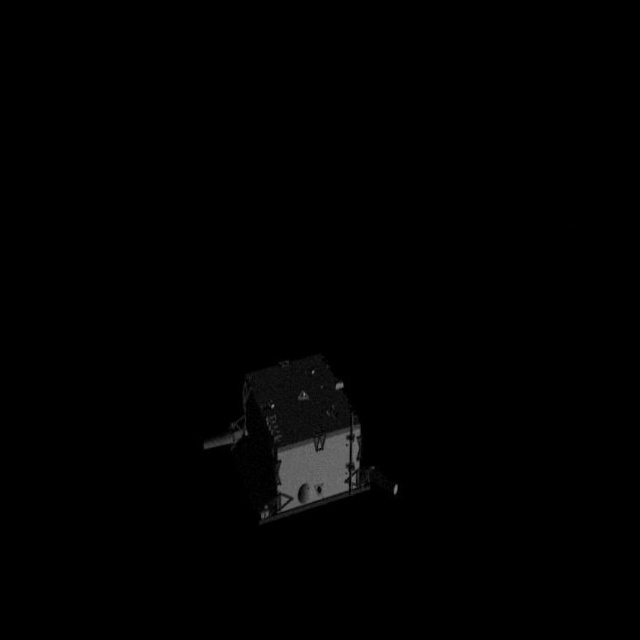medium_debris: (190, 340, 399, 526)
